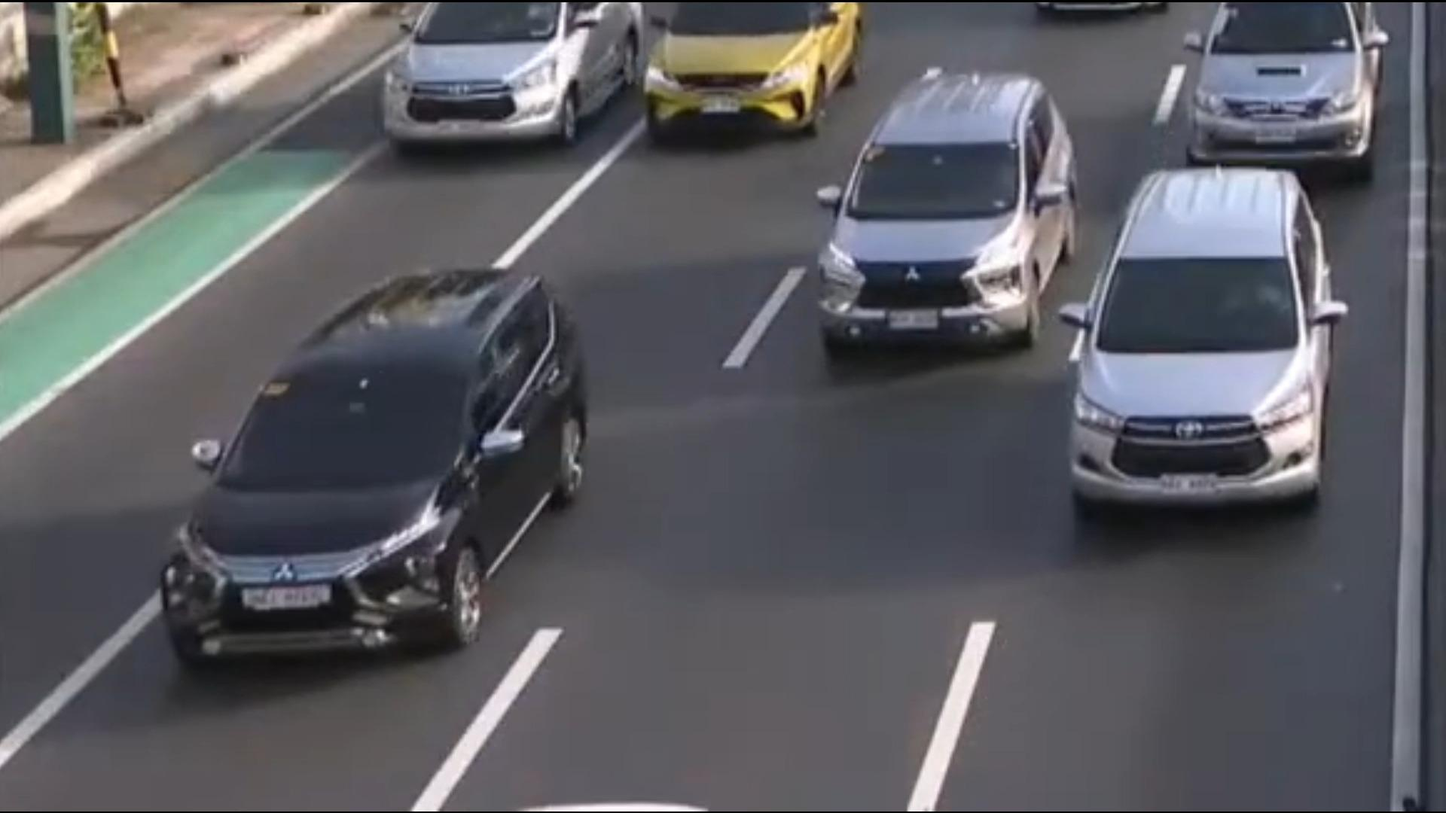SUV: (155, 266, 593, 682), (1065, 166, 1353, 531), (812, 69, 1082, 360), (377, 0, 652, 164), (1178, 0, 1394, 182), (639, 0, 865, 154)
